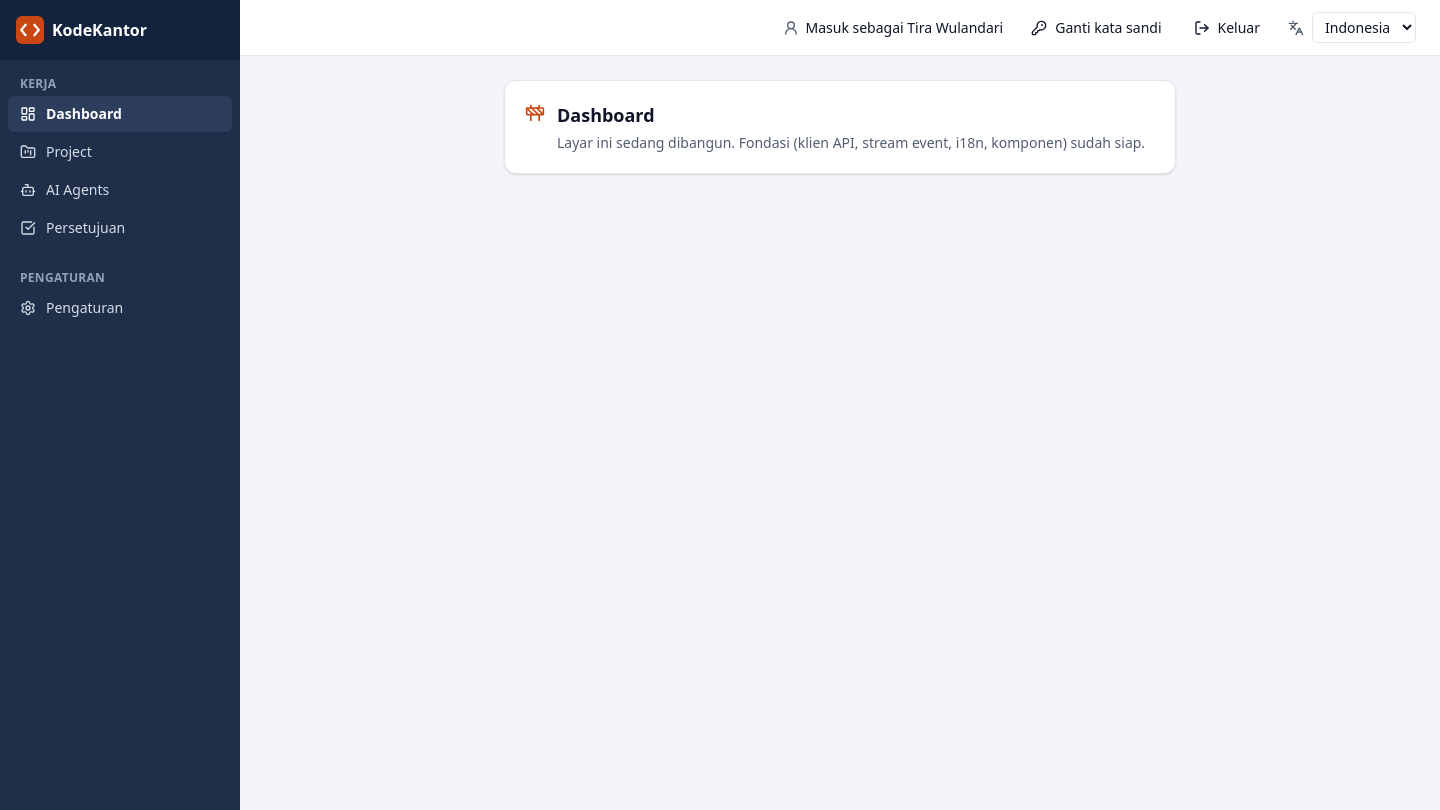
Test: ChangePasswordDialog › says the outcome is unknown when the answer never arrives
Click the button "Ganti kata sandi".
click(1096, 28)  # box [1019, 12, 1174, 44]
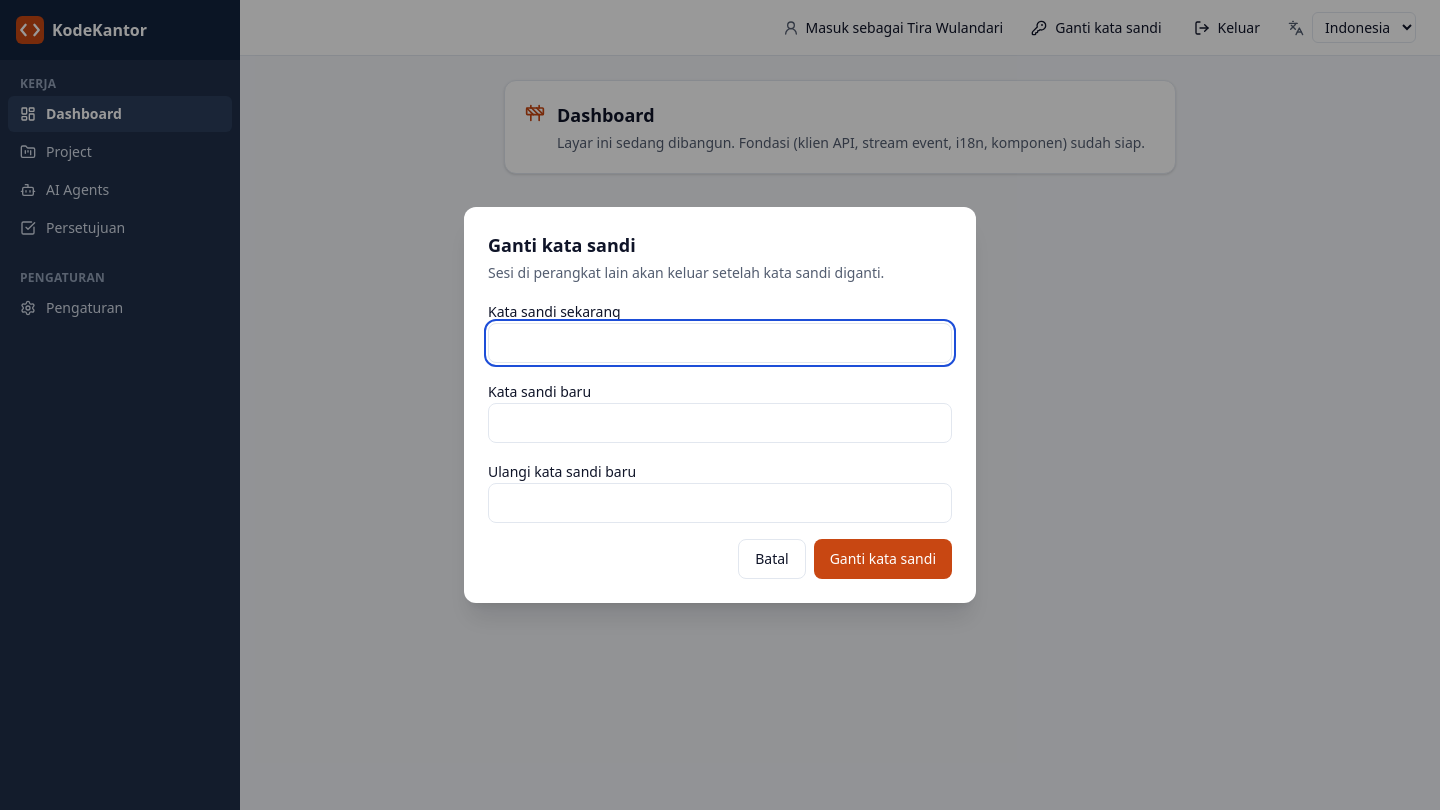
Type "kata-sandi-lama!" into the password field labelled "Kata sandi sekarang".
click(720, 343); type("kata-sandi-lama!")  # box [488, 323, 952, 363]
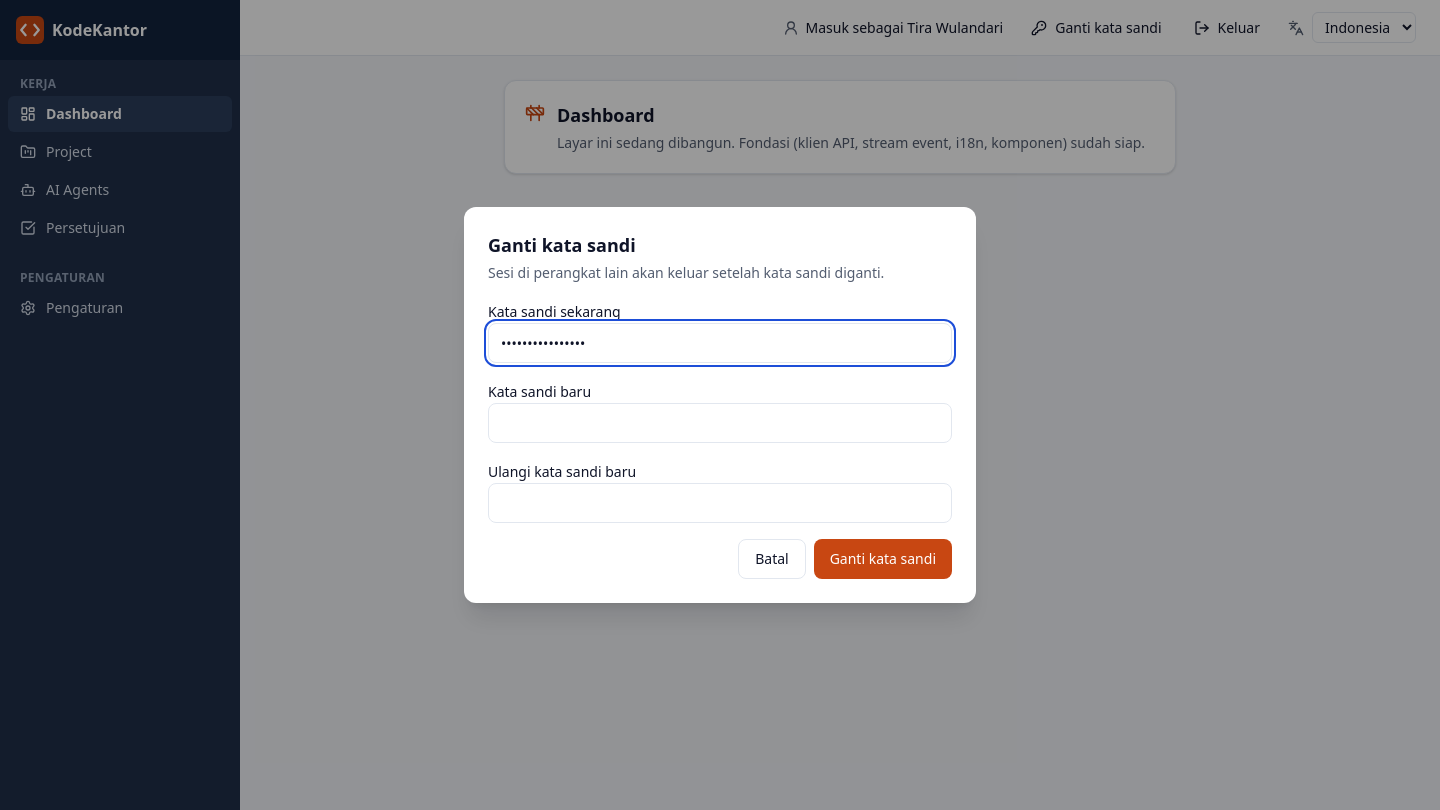
Type "kata-sandi-baru-123" into the password field labelled "Kata sandi baru".
click(720, 423); type("kata-sandi-baru-123")  # box [488, 403, 952, 443]
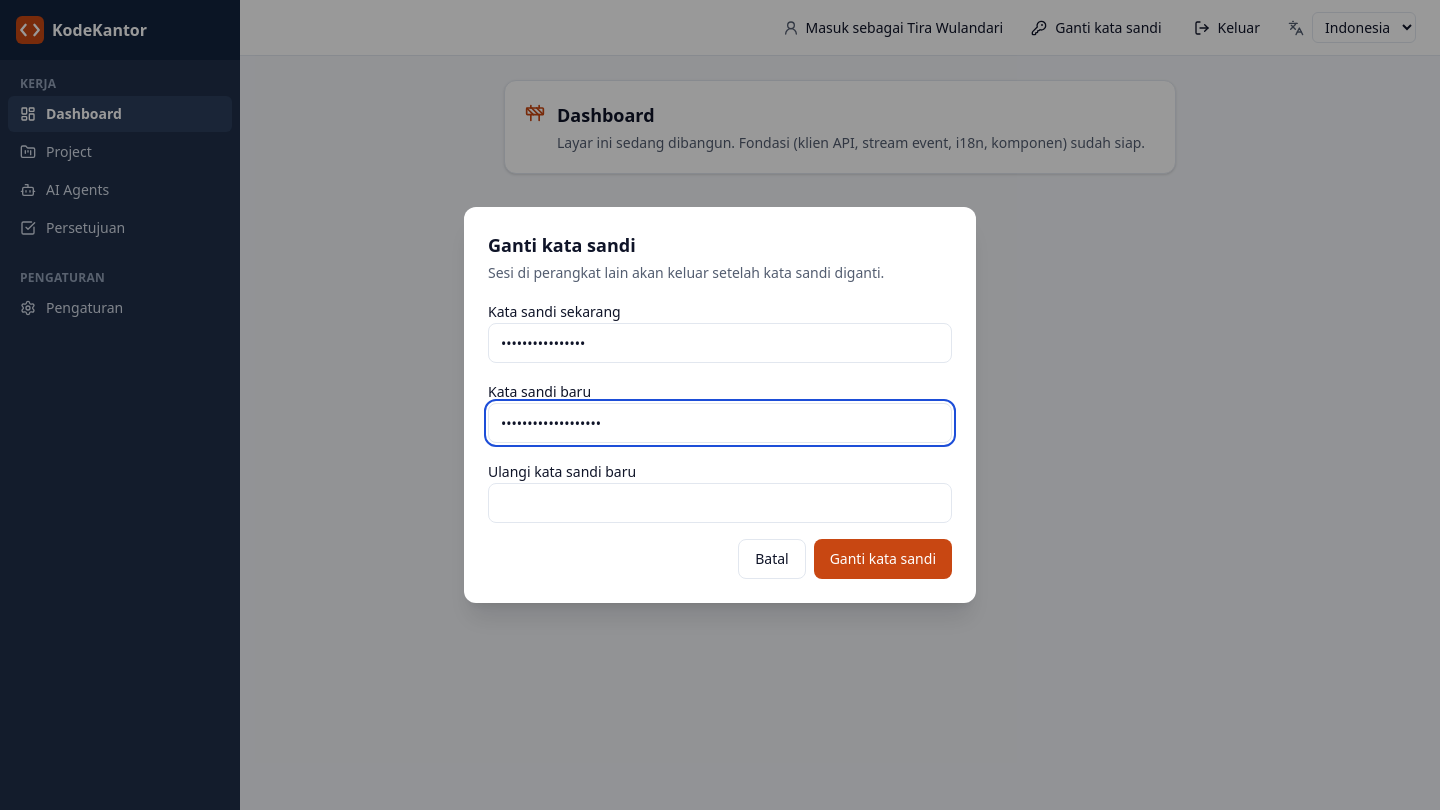
Type "kata-sandi-baru-123" into the password field labelled "Ulangi kata sandi baru".
click(720, 503); type("kata-sandi-baru-123")  # box [488, 483, 952, 523]
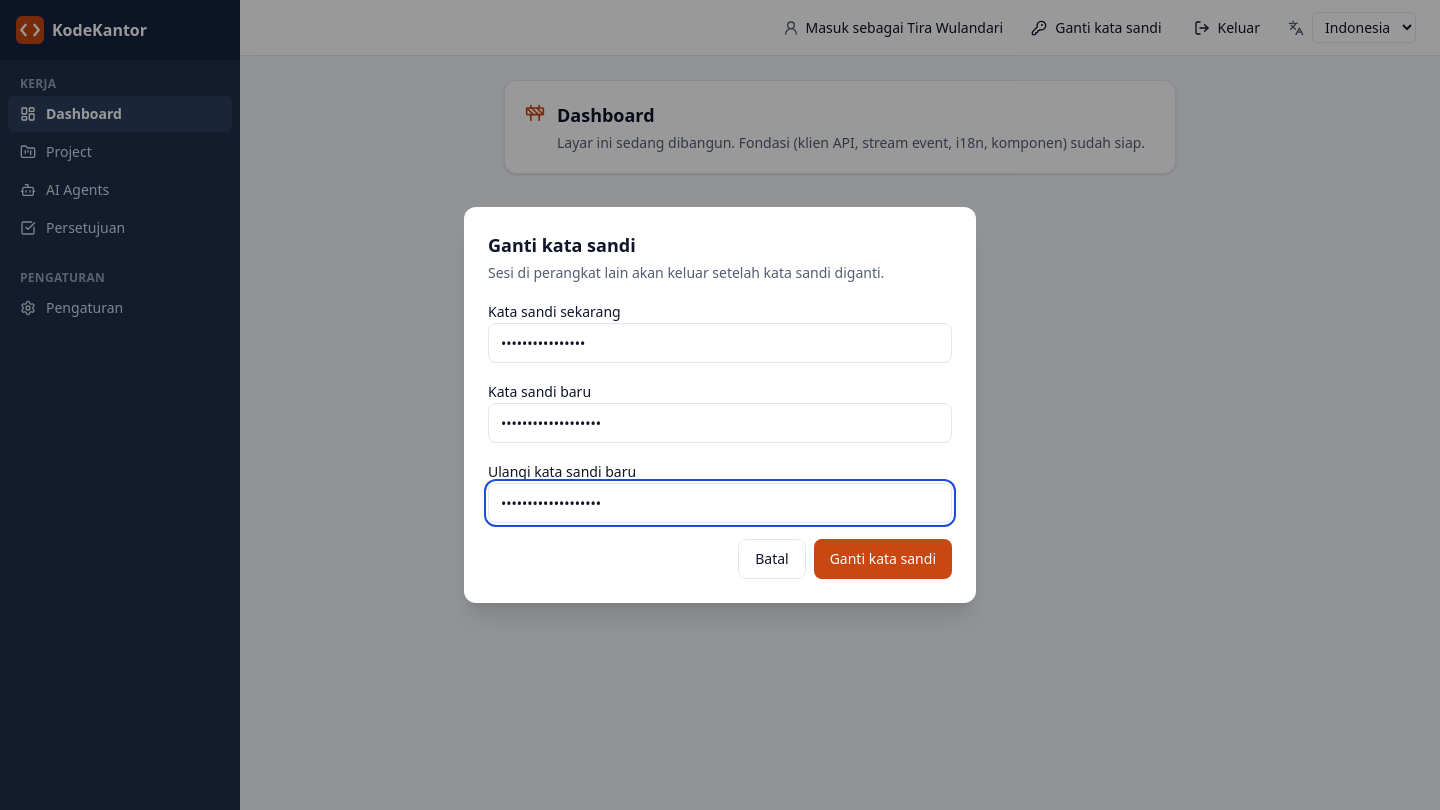
Click the button "Ganti kata sandi".
click(883, 559)  # box [814, 539, 952, 579]
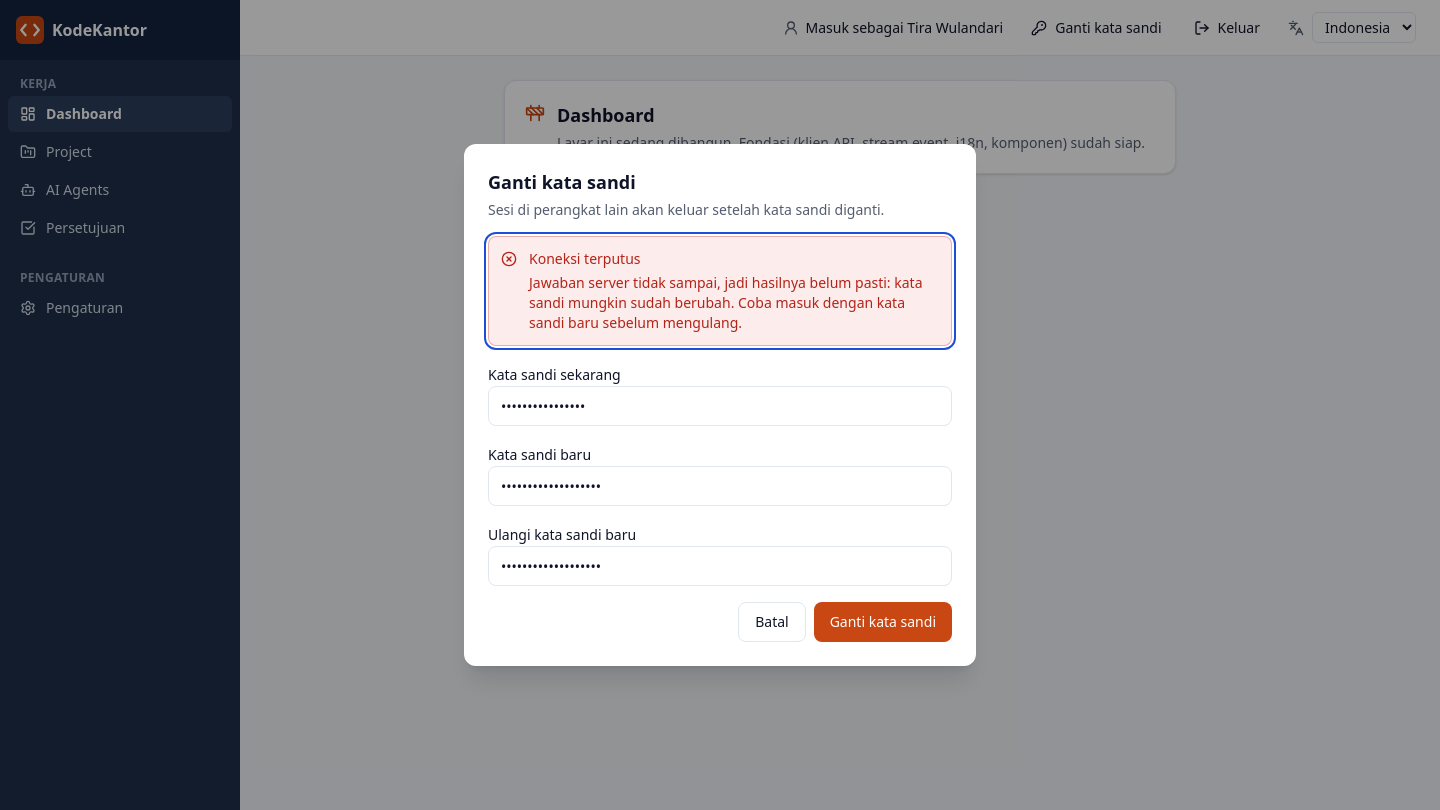
expect the text "Jawaban server tidak sampai, jadi hasilnya belum pasti: kata sandi mungkin sudah berubah. Coba masuk dengan kata sandi b" is shown: met, box [529, 273, 922, 332]
